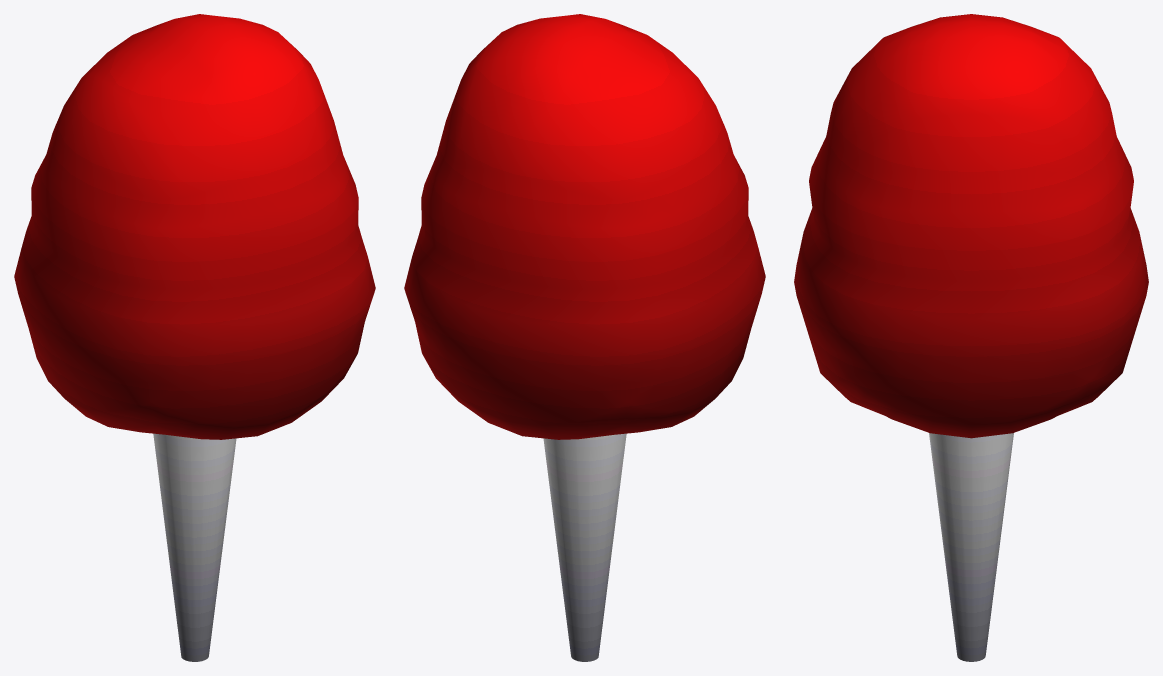
File: SM_Fairyfloss_Cherry.fbx
3 renders of one model, left to right at view 1: azimuth 30°, elevation 25°; view 2: azimuth 150°, elevation 25°; view 3: azimuth 270°, elevation 25°, orthographic. The views are drawn at different scales.
Parts seen in each view (by area): view 1: SM_fairyfloss; view 2: SM_fairyfloss; view 3: SM_fairyfloss.
Part boxes in pixels (box(x1,y1,x2,y2)): SM_fairyfloss: box(14, 14, 375, 661); SM_fairyfloss: box(404, 14, 765, 661); SM_fairyfloss: box(794, 14, 1148, 661).
Size of the model in its own units: 3.04 by 6.05 by 3.04.
